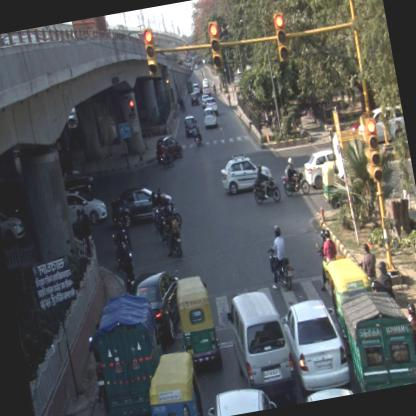car: (223, 285, 296, 394), (278, 294, 352, 396), (131, 268, 188, 348), (113, 180, 176, 228), (218, 151, 272, 197), (203, 383, 277, 415), (301, 145, 341, 189), (64, 188, 108, 228), (154, 133, 183, 165), (182, 116, 198, 139), (203, 106, 218, 128), (204, 96, 218, 116), (190, 90, 198, 104)
motorcycle: (262, 221, 298, 293), (310, 228, 342, 293), (148, 184, 184, 233), (276, 154, 312, 198), (249, 161, 282, 207), (162, 213, 186, 258), (404, 299, 415, 382), (190, 122, 202, 147)
truck: (87, 291, 176, 415), (336, 283, 415, 393)
